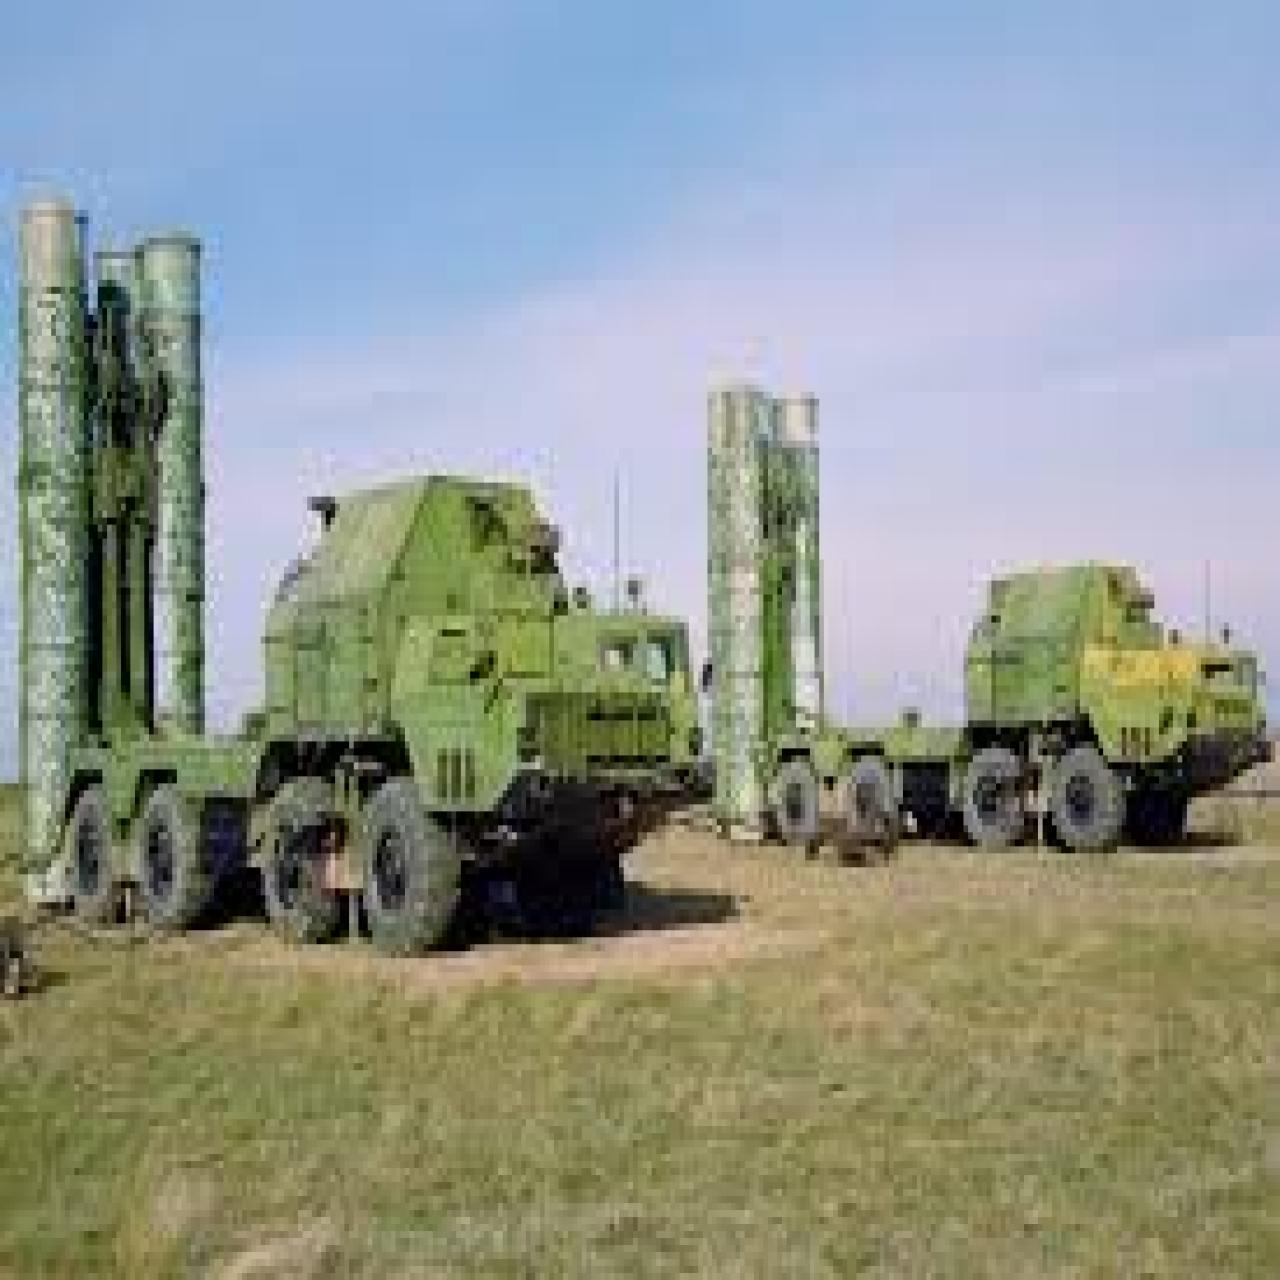MIL_Veh: (19, 192, 700, 945), (708, 383, 1273, 849)
